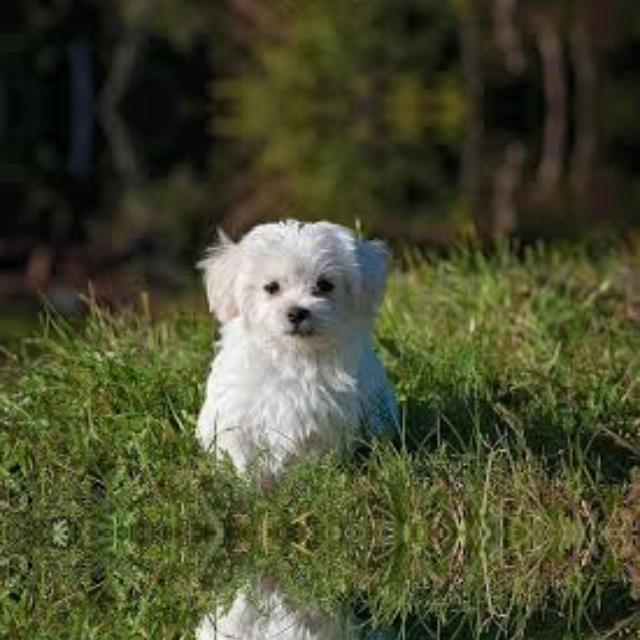dog: (195, 210, 422, 494), (194, 572, 421, 640), (194, 0, 421, 4)
